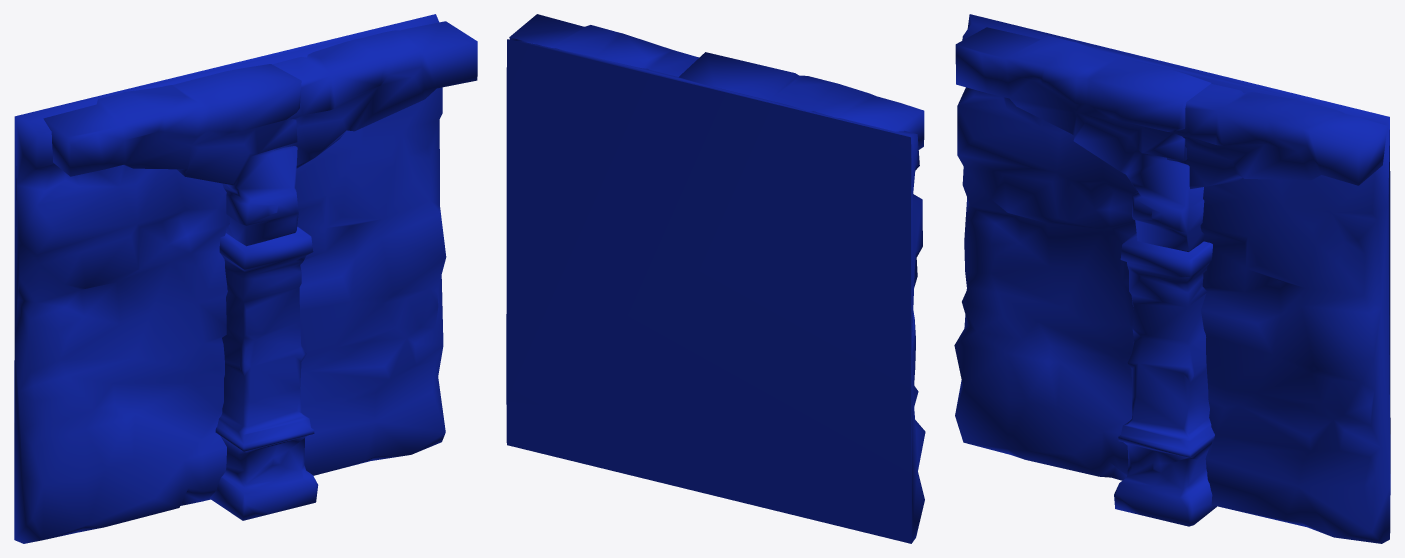
File: MDungeons_Wals_Arched_04.FBX
3 renders of one model, left to right at view 1: azimuth 30°, elevation 25°; view 2: azimuth 150°, elevation 25°; view 3: azimuth 330°, elevation 25°, orthographic. The views are drawn at different scales.
Visible parts, largest first — view 1: MDungeons_Wals_Arched_04_Wall_LOD0, MDungeons_Wals_Arched_04_LOD0; view 2: MDungeons_Wals_Arched_04_Wall_LOD0, MDungeons_Wals_Arched_04_LOD0; view 3: MDungeons_Wals_Arched_04_Wall_LOD0, MDungeons_Wals_Arched_04_LOD0.
Part boxes in pixels (x1,y1,x2,y2): MDungeons_Wals_Arched_04_Wall_LOD0: (14,14,446,543); MDungeons_Wals_Arched_04_LOD0: (43,21,477,520); MDungeons_Wals_Arched_04_Wall_LOD0: (506,39,925,543); MDungeons_Wals_Arched_04_LOD0: (509,14,924,149); MDungeons_Wals_Arched_04_Wall_LOD0: (954,14,1390,543); MDungeons_Wals_Arched_04_LOD0: (955,27,1387,526).
Size of what is drawn, in the model's own units: 6.31 by 6.01 by 1.07.
